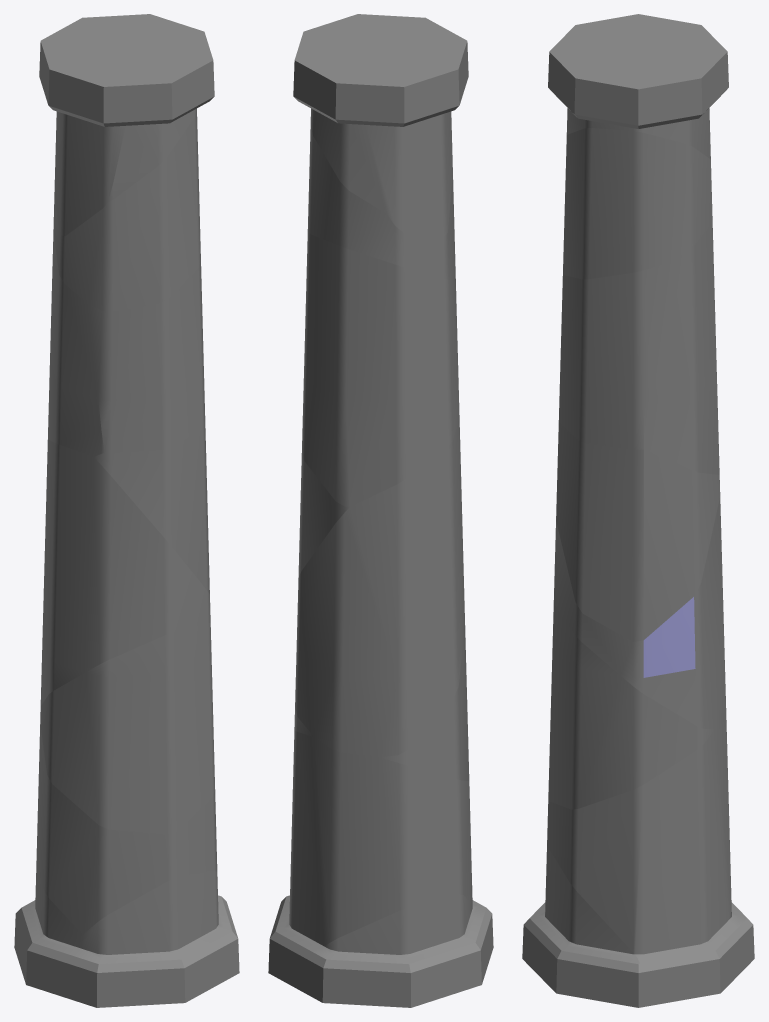
File: Pillar in Chunks .fbx
3 views of the same model, side by side, from view 1: azimuth 30°, elevation 25°; view 2: azimuth 150°, elevation 25°; view 3: azimuth 270°, elevation 25° (orthographic).
Parts seen in each view (by area): view 1: Pillar20, Pillar4, Pillar19, Pillar10, Pillar9, Pillar17, Pillar13, Pillar14, Pillar15, Pillar18, Pillar12; view 2: Pillar4, Pillar18, Pillar17, Pillar13, Pillar12, Pillar14, Pillar10, Pillar20, Pillar15, Pillar19; view 3: Pillar17, Pillar15, Pillar10, Pillar20, Pillar9, Pillar14, Pillar4, Pillar18, Pillar19, Pillar13, Pillar12.
Part boxes in pixels (box(x1,y1,x2,y2)): Pillar20: box(40, 623, 214, 834); Pillar4: box(40, 439, 210, 705); Pillar19: box(64, 870, 239, 1007); Pillar10: box(53, 110, 200, 311); Pillar9: box(88, 261, 205, 453); Pillar17: box(36, 724, 219, 934); Pillar13: box(39, 20, 142, 236); Pillar14: box(78, 14, 214, 201); Pillar15: box(94, 425, 209, 593); Pillar18: box(48, 232, 104, 456); Pillar12: box(14, 862, 82, 997); Pillar4: box(295, 425, 464, 757); Pillar18: box(302, 233, 459, 506); Pillar17: box(268, 731, 471, 975); Pillar13: box(343, 27, 468, 238); Pillar12: box(274, 895, 488, 1007); Pillar14: box(293, 14, 442, 213); Pillar10: box(307, 127, 455, 279); Pillar20: box(294, 625, 469, 780); Pillar15: box(298, 415, 459, 576); Pillar19: box(280, 878, 493, 963); Pillar17: box(547, 720, 739, 1000); Pillar15: box(556, 420, 719, 641); Pillar10: box(563, 128, 712, 279); Pillar20: box(548, 602, 714, 809); Pillar9: box(559, 263, 668, 449); Pillar14: box(548, 40, 728, 159); Pillar4: box(553, 492, 726, 728); Pillar18: box(644, 223, 719, 474); Pillar19: box(522, 846, 681, 1007); Pillar13: box(561, 14, 724, 48); Pillar12: box(724, 902, 754, 989).
Bounding box in the file's own units: 240 × 1035 × 240.
